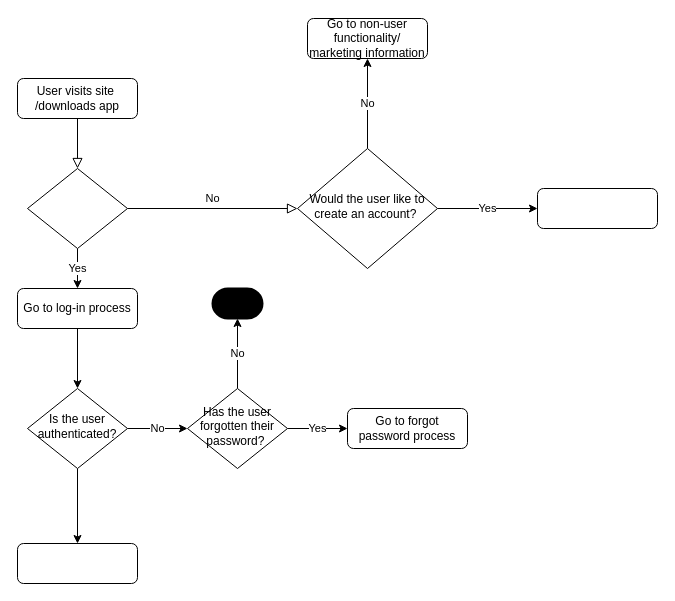
Some shapes in this 675 by 601 pixel diagram are drawn without their labels. The box of each missing label's shape, as (x1, y1, x2, y2) in pixels:
Does the user have an acount: (26, 168, 128, 248)
Go to create account process: (536, 188, 658, 228)
TODO: logged in processes: (16, 542, 138, 584)
